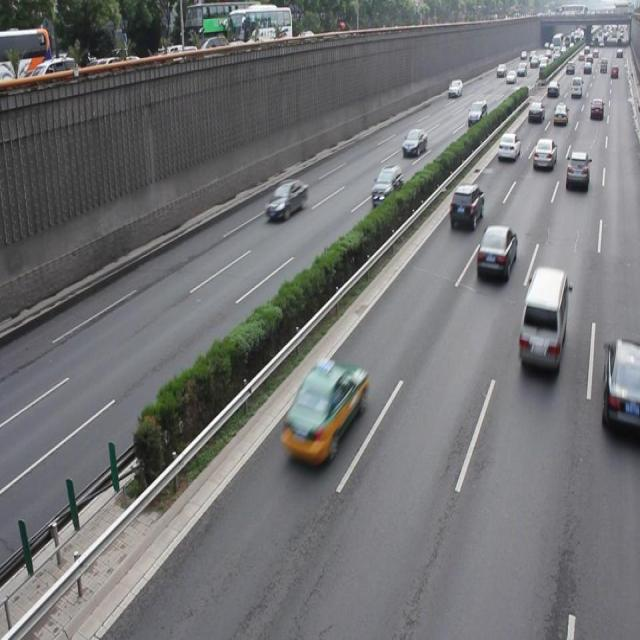car: (280, 359, 368, 464), (603, 338, 640, 432), (474, 222, 516, 280), (265, 178, 308, 221), (449, 182, 483, 228), (369, 163, 402, 203), (565, 149, 588, 191), (531, 136, 556, 170)
truck: (516, 266, 569, 374)
